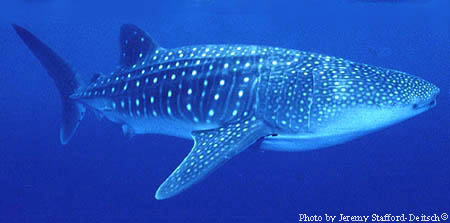Rhincodon_typusw: (14, 12, 443, 196)
